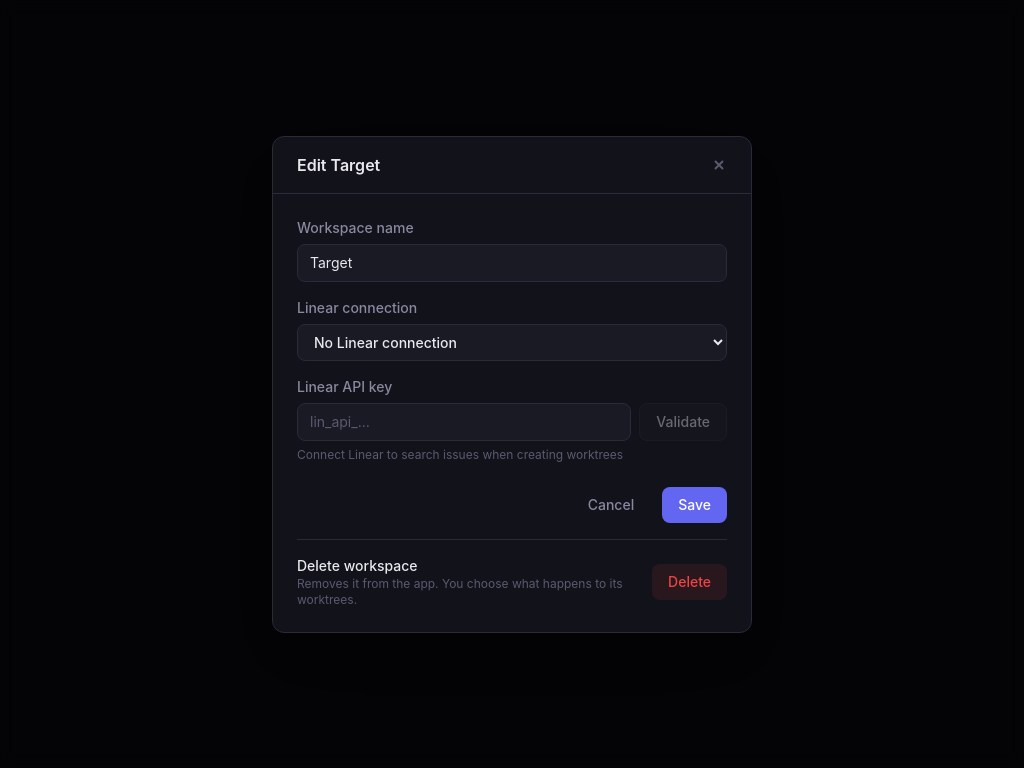
Test: workspace Linear connections › can enter a new key after choosing the custom option
The image size is (1024, 768).
Select "Enter a new API key" in the dropdown at x=512, y=342, box [297,324,727,360]
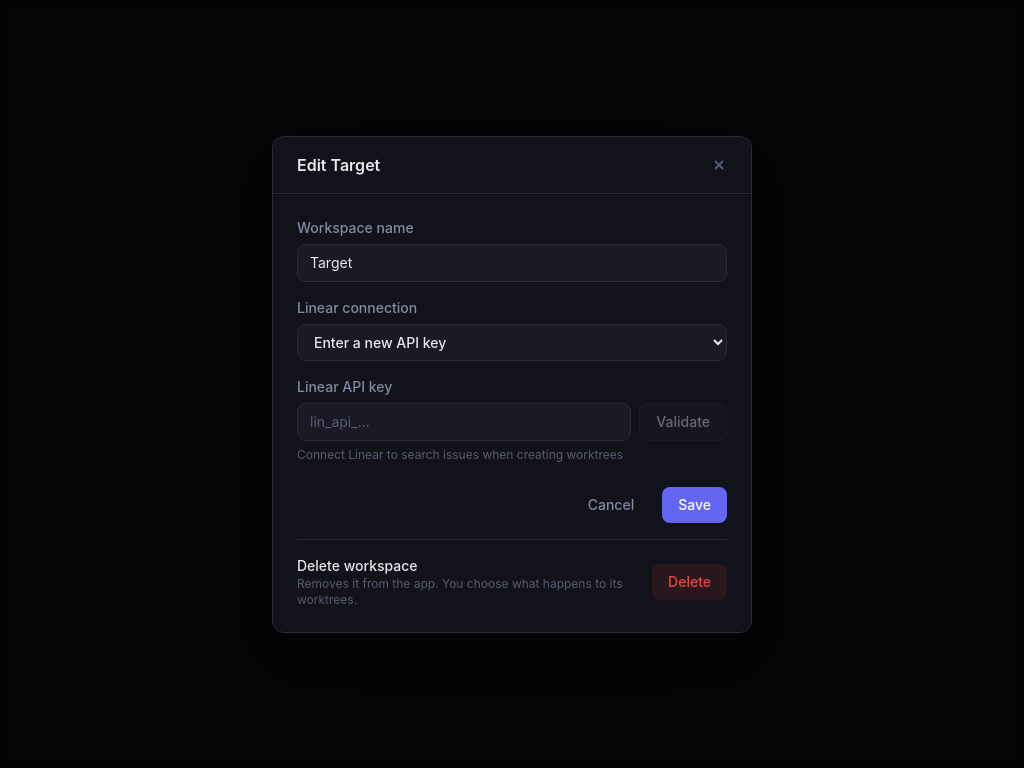
Type "new-key" into the password field with placeholder "lin_api_...".
click(464, 422); type("new-key")  # box [297,402,631,440]
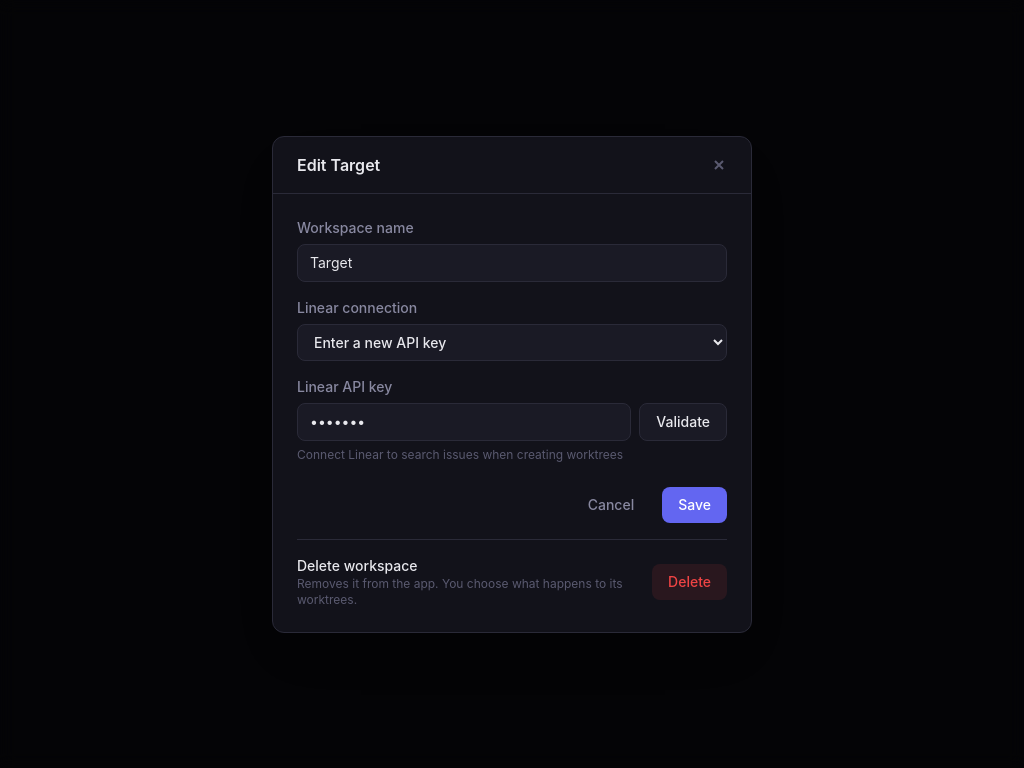
Click the button "Validate".
click(683, 422)  # box [639,402,727,440]
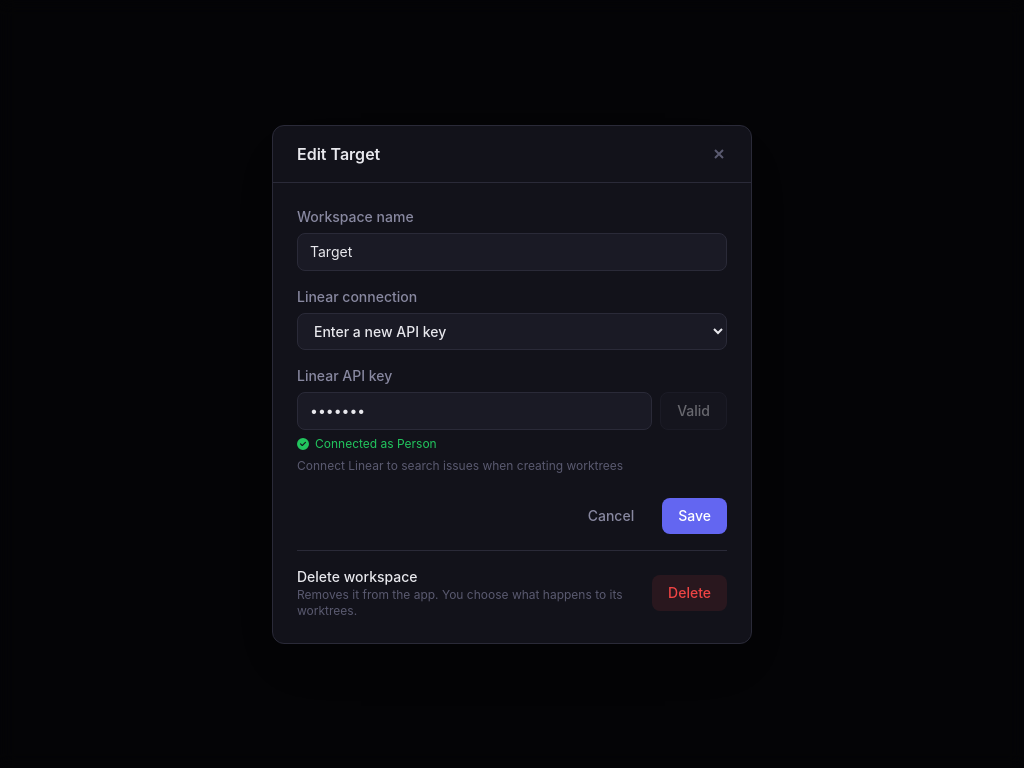
Check: the text "Connected as Person" is shown, box [297,436,437,450]
